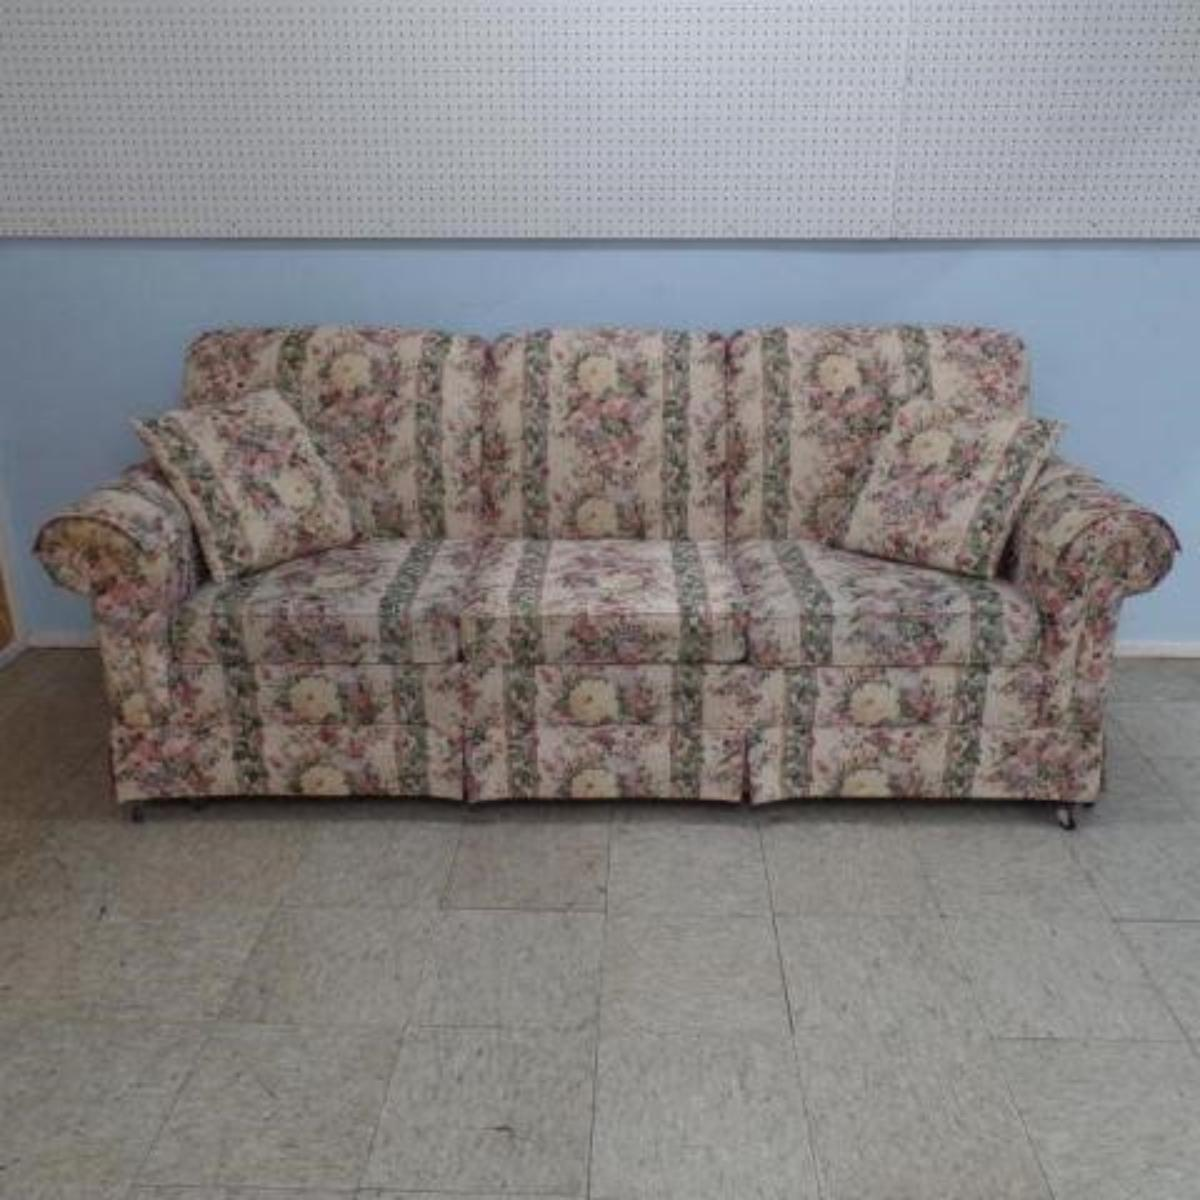Sofa: (35, 318, 1174, 835)
